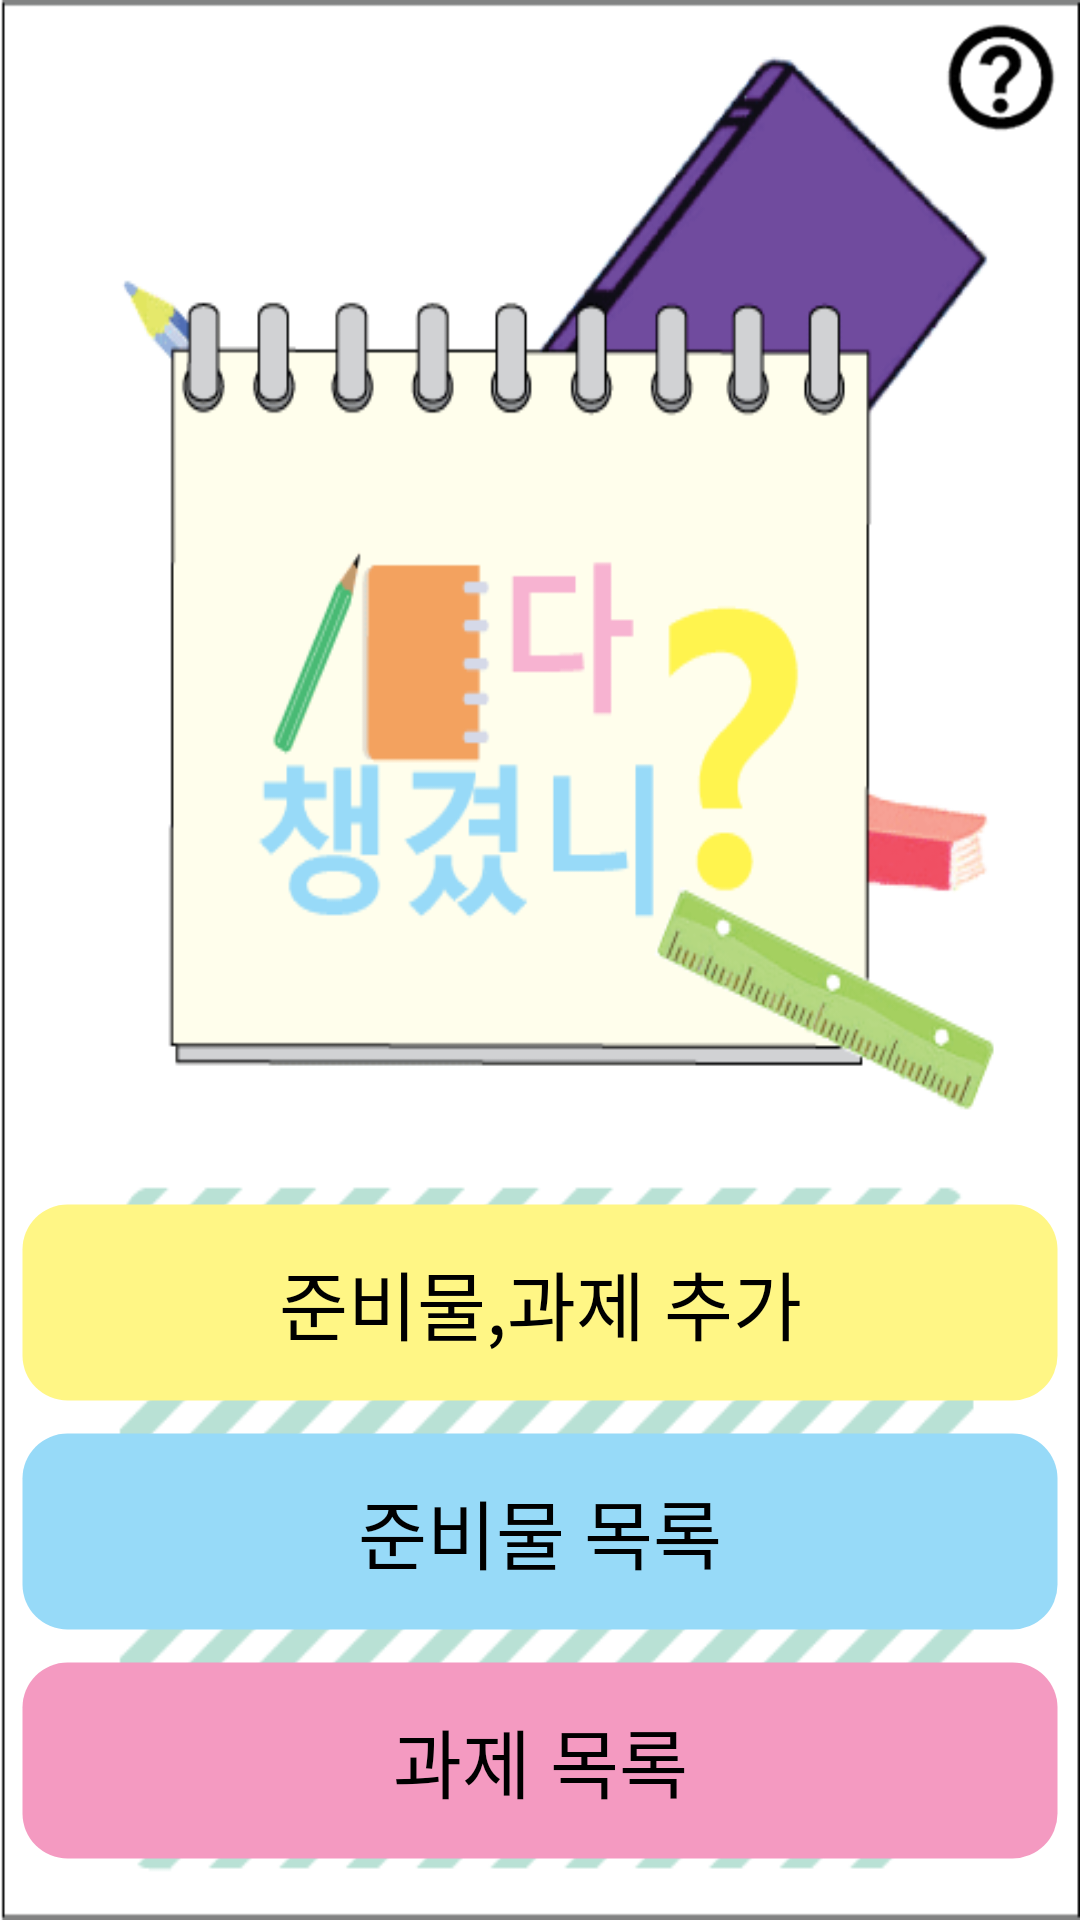

Where icons sit on this 1080px x 1920px app screen, as (x1, y1, x2, y2):
information: (948, 24, 1054, 130)
